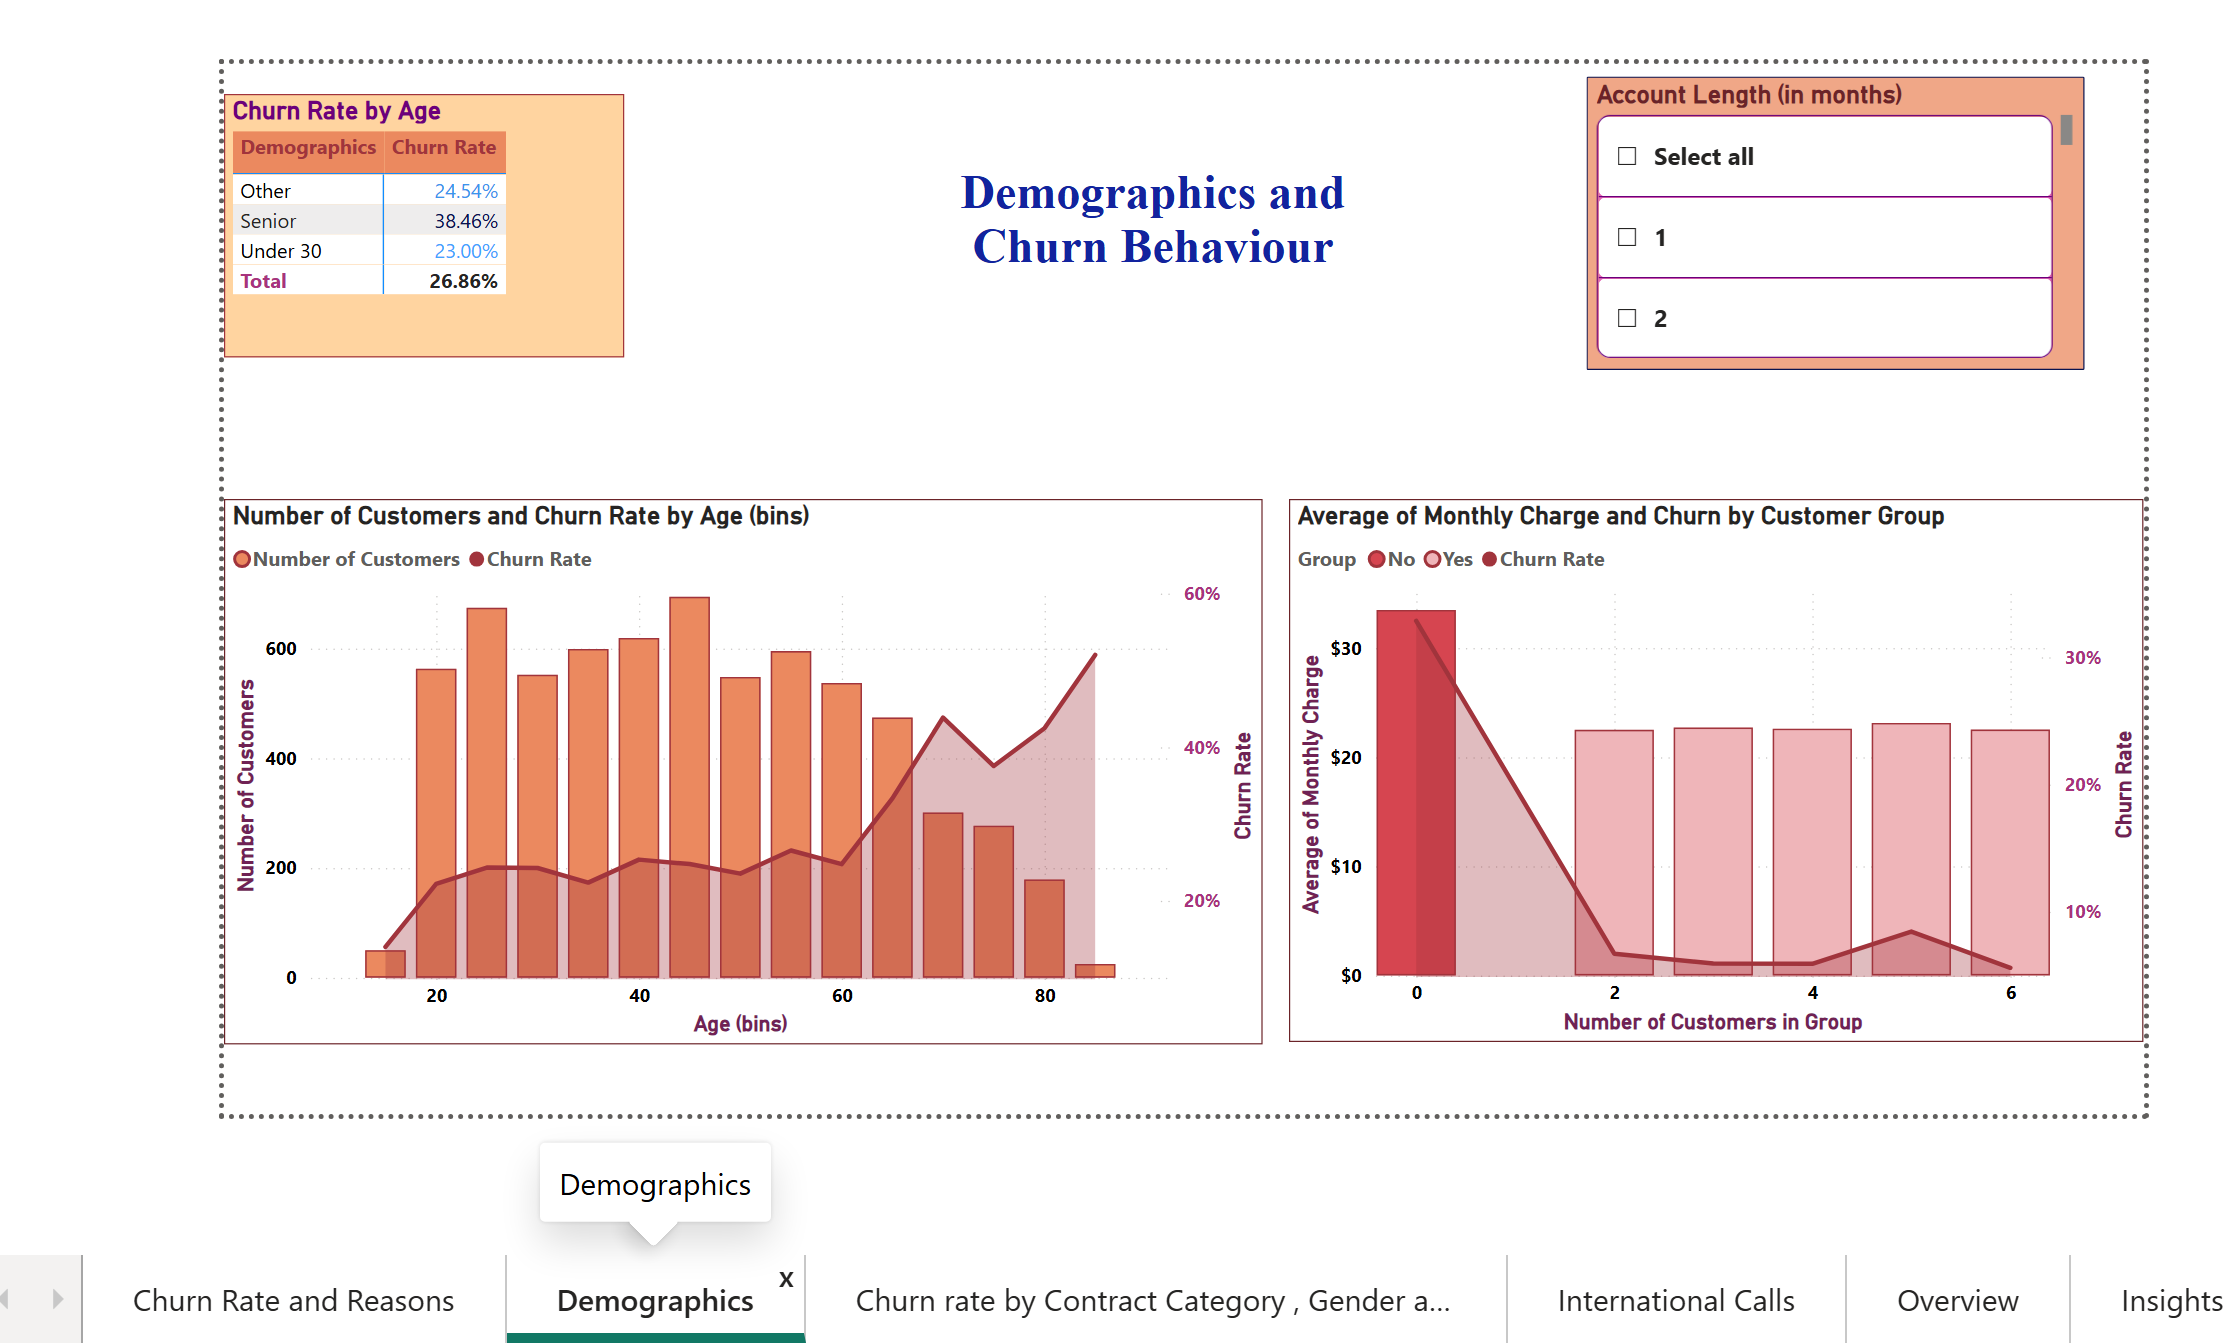

The dashboard page shown, as its layout file describes it:
{"tool":"powerbi","page":{"name":"Demographics","canvas":[1280,720],"ordinal":1},"visuals":[{"type":"pivotTable","title":"Churn Rate by Age","fields":{"Values":["_Measure.Churn Rate"],"Rows":["Churn_fact.Demographics"]},"box":[0,19.7,266.7,175.8],"z":0},{"type":"lineStackedColumnComboChart","fields":{"Category":["Churn_fact.Age (bins)"],"Y":["_Measure.Number of Customers"],"Y2":["_Measure.Churn Rate"]},"box":[0,301.8,691.5,364.9],"z":1000},{"type":"lineStackedColumnComboChart","title":"Average of Monthly Charge and Churn by Customer Group","fields":{"Category":["Churn_fact.Number of Customers in Group"],"Y":["Avg(Churn_fact.Monthly Charge)"],"Series":["Churn_fact.Group"],"Y2":["_Measure.Churn Rate"]},"box":[692.8,0,569.4,362.2],"z":2000},{"type":"advancedSlicerVisual","fields":{"Values":["Churn_fact.Account Length (in months)"]},"box":[978.2,421.2,252.4,190.7],"z":2001},{"type":"textbox","box":[300.5,28.8,364.9,175.6],"z":2002}]}

Visuals, with their boxes on the page's 1280x720 design canvas (x1, y1, x2, y2). These are canvas units, not pixel positions in the 2233x1343 screenshot, which may show the page scaled, cropped or inside an application window:
"Churn Rate by Age" pivotTable: {"left": 0, "top": 20, "right": 267, "bottom": 196}
lineStackedColumnComboChart - Churn_fact.Age (bins) x _Measure.Number of Customers: {"left": 0, "top": 302, "right": 692, "bottom": 667}
"Average of Monthly Charge and Churn by Customer Group" lineStackedColumnComboChart: {"left": 693, "top": 0, "right": 1262, "bottom": 362}
advancedSlicerVisual - Churn_fact.Account Length (in months): {"left": 978, "top": 421, "right": 1231, "bottom": 612}
textbox: {"left": 300, "top": 29, "right": 665, "bottom": 204}
